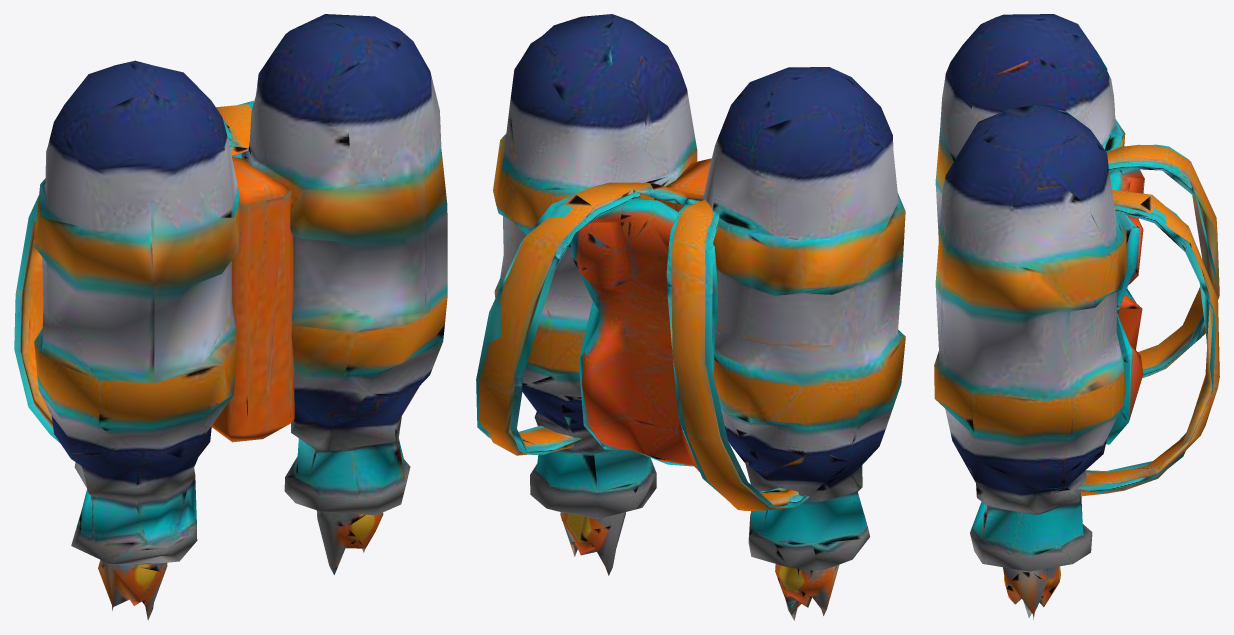
File: jet.glb
3 views of the same model, side by side, from view 1: azimuth 30°, elevation 25°; view 2: azimuth 150°, elevation 25°; view 3: azimuth 270°, elevation 25° (orthographic). The views are drawn at different scales.
Parts seen in each view (by area): view 1: geometry_0; view 2: geometry_0; view 3: geometry_0.
Part boxes in pixels (<box>): geometry_0: <box>14,14,447,620</box>; geometry_0: <box>476,14,905,620</box>; geometry_0: <box>934,14,1219,619</box>.
Size of the model in its own units: 0.6865 by 0.9419 by 0.4765.
Materials: 1 (1 with a texture image).
